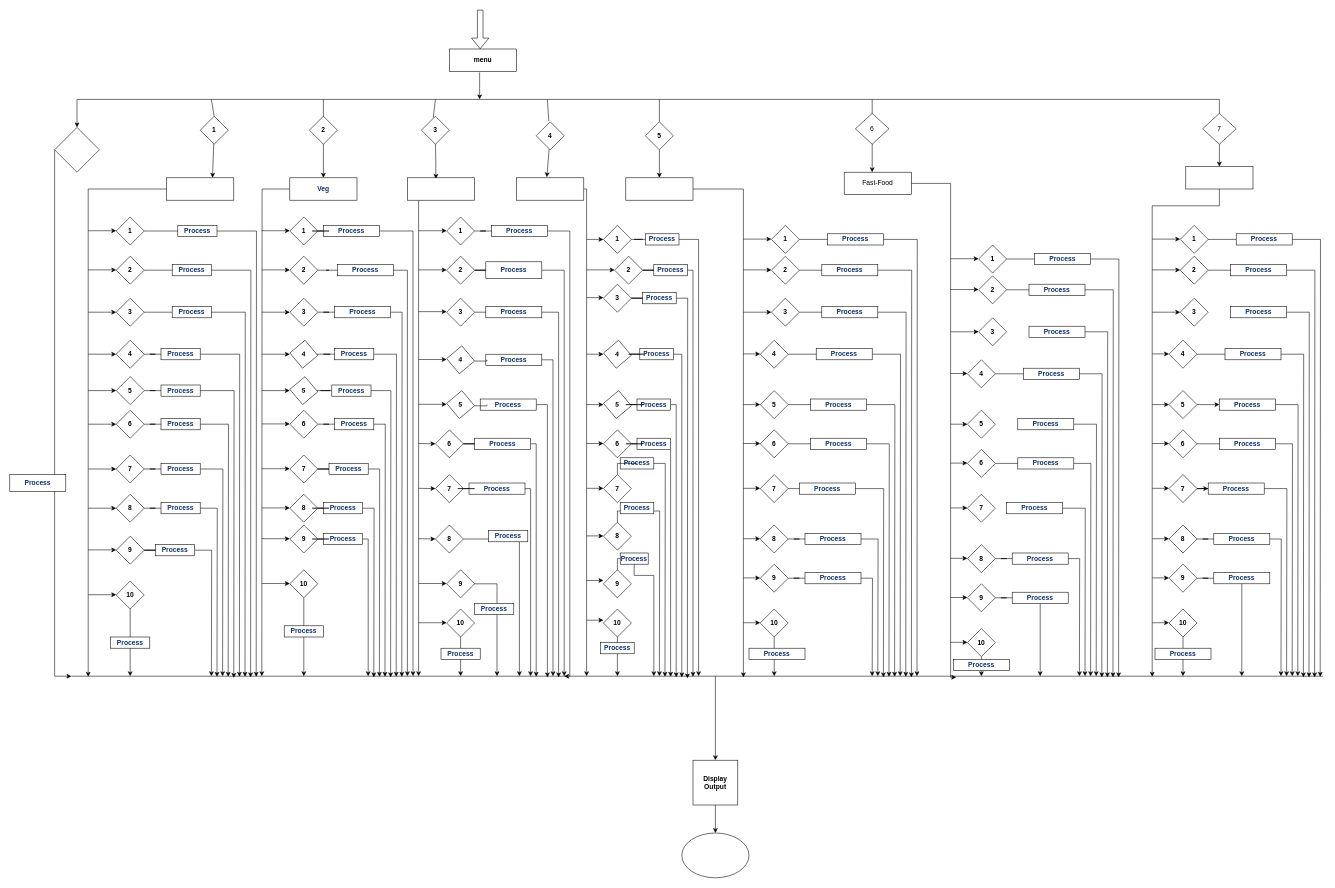
Some shapes in this 1335 by 888 pixel diagram are drawn without their labels. The box of each missing label's shape, as (x1, y1, x2, y2) in pixels:
Beverages: (625, 177, 693, 200)
Desserts: (516, 177, 584, 200)
End: (681, 832, 749, 878)
Icecream: (1185, 166, 1253, 189)
Non-Veg: (407, 177, 475, 200)
Other: (54, 127, 99, 172)
Starter: (166, 177, 234, 200)
